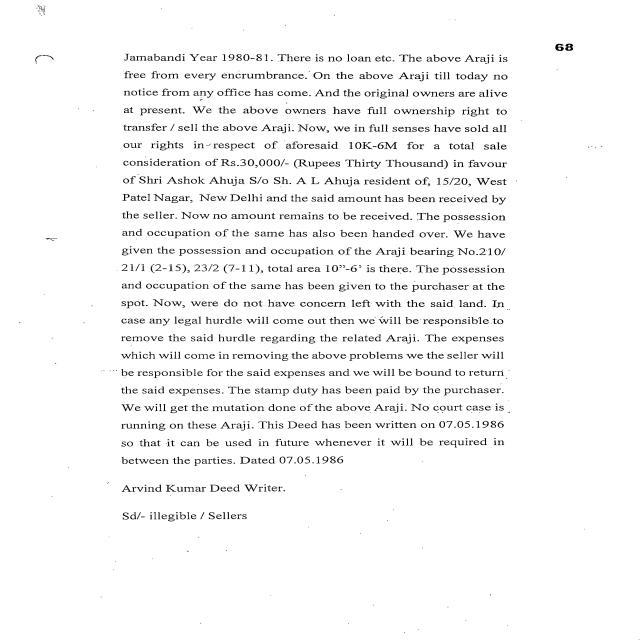page-number: (475, 0, 638, 54)
